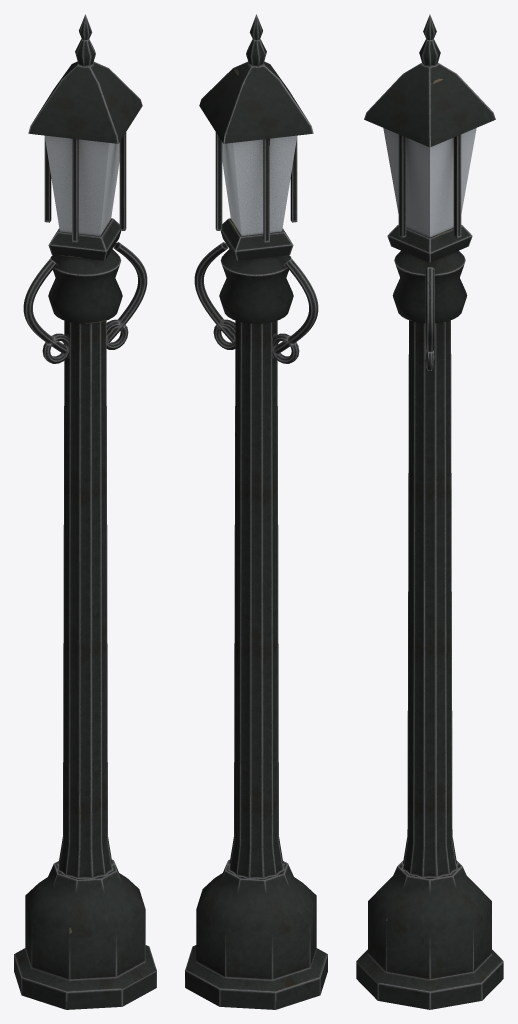
File: WFStreetLamp.fbx
3 renders of one model, left to right at view 1: azimuth 30°, elevation 25°; view 2: azimuth 150°, elevation 25°; view 3: azimuth 270°, elevation 25°, orthographic.
Visible parts, largest first — view 1: WFStreetLamp_Main, WFStreetLamp_Glass; view 2: WFStreetLamp_Main, WFStreetLamp_Glass; view 3: WFStreetLamp_Main, WFStreetLamp_Glass.
Part boxes in pixels (<box>): WFStreetLamp_Main: <box>14,14,156,1009</box>; WFStreetLamp_Glass: <box>44,135,119,236</box>; WFStreetLamp_Main: <box>185,14,327,1009</box>; WFStreetLamp_Glass: <box>222,135,297,236</box>; WFStreetLamp_Main: <box>356,14,503,1009</box>; WFStreetLamp_Glass: <box>383,128,476,237</box>.
Size of the model in its own units: 190 by 1370 by 190.
